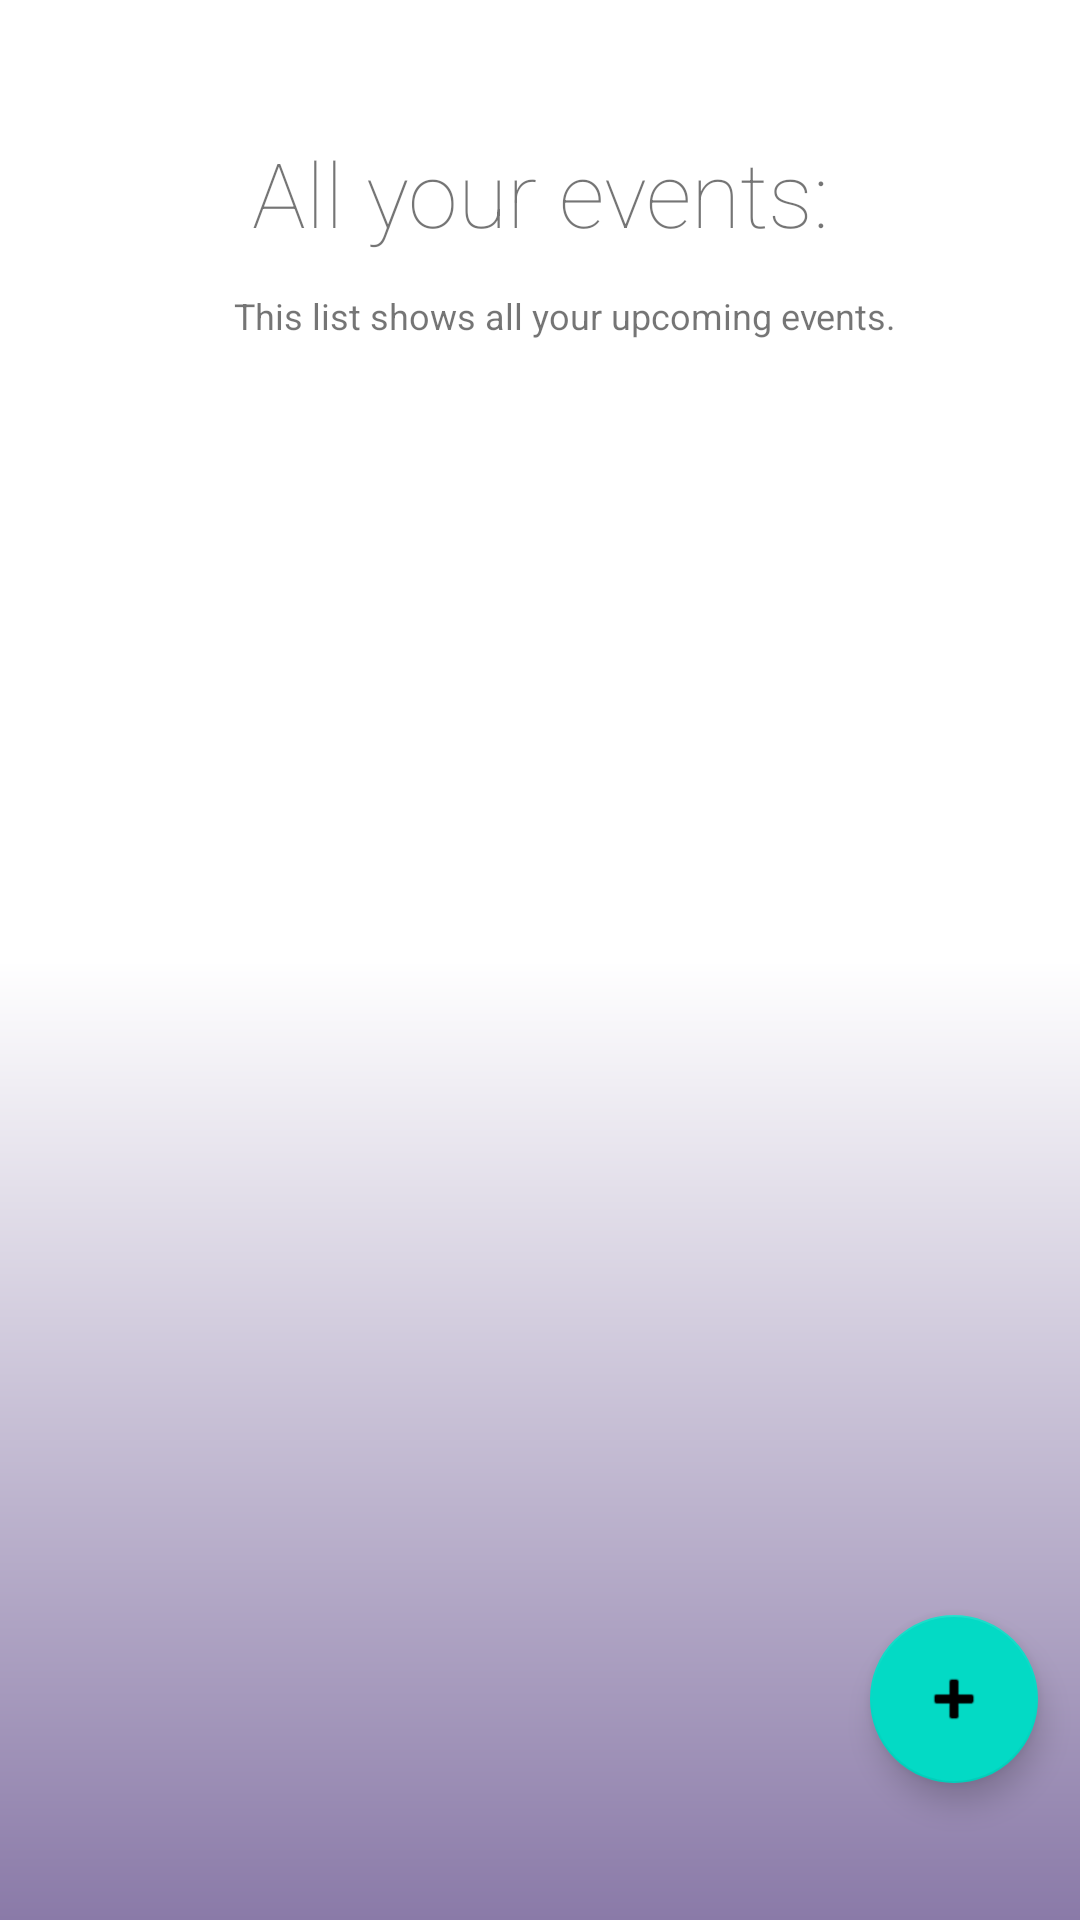

Icons on this 1080 × 1920 Android screen, each with the point to tap as point (x, y):
New Workout Button: point (954, 1699)
